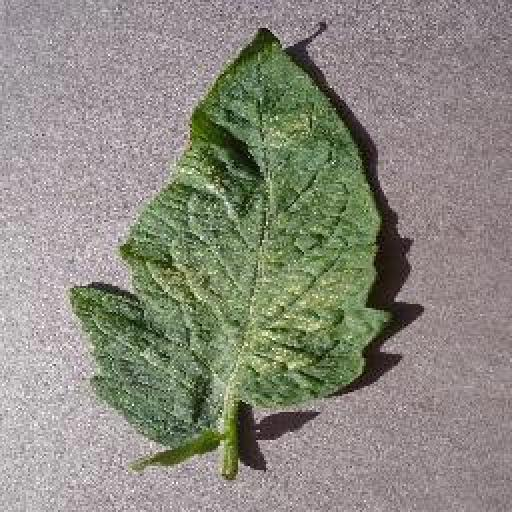disease_tomato: (70, 38, 394, 448)
